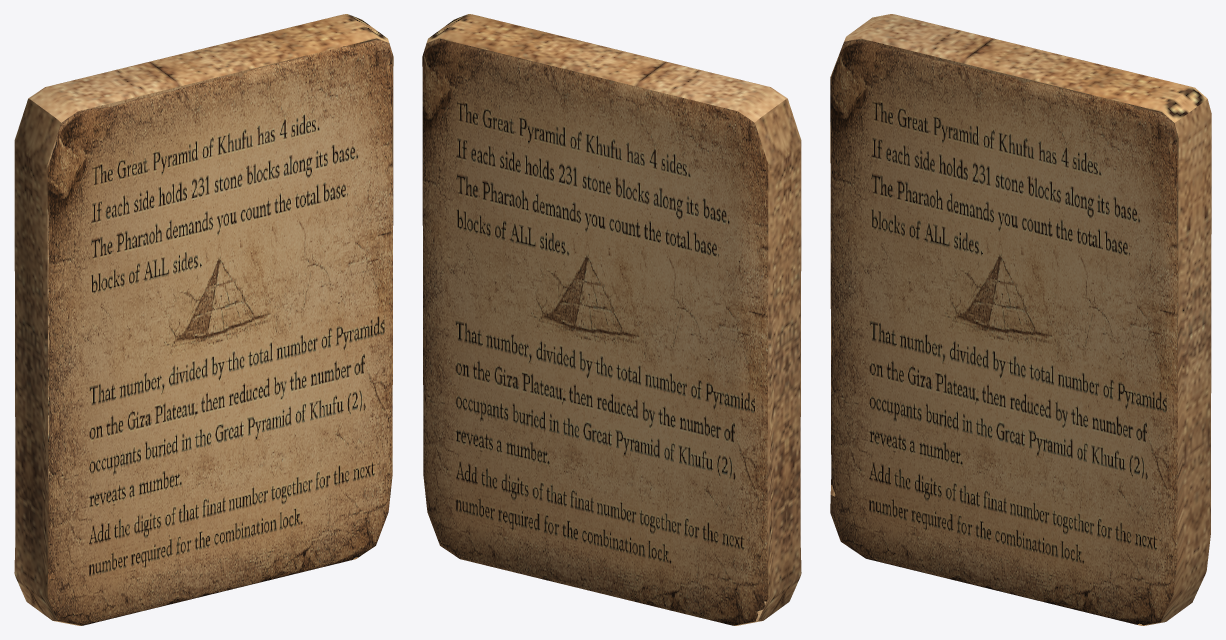
Rendered from Puzzle 4 Tablet.fbx.
3 renders of one model, left to right at view 1: azimuth 30°, elevation 25°; view 2: azimuth 150°, elevation 25°; view 3: azimuth 330°, elevation 25°, orthographic.
Visible parts, largest first — view 1: Puzzle 4 Clay Tablet; view 2: Puzzle 4 Clay Tablet; view 3: Puzzle 4 Clay Tablet.
Part boxes in pixels (x1,y1,x2,y2): Puzzle 4 Clay Tablet: [14, 14, 393, 625]; Puzzle 4 Clay Tablet: [422, 14, 801, 625]; Puzzle 4 Clay Tablet: [830, 14, 1211, 625].
Bounding box in the file's own units: 141 × 200 × 24.92.
